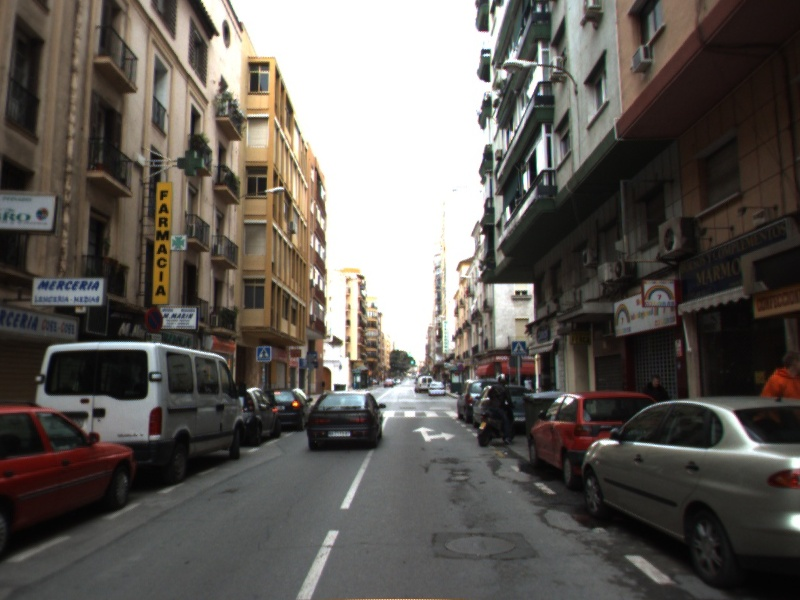STRAIGHT_RIGHT: (411, 425, 457, 443)
